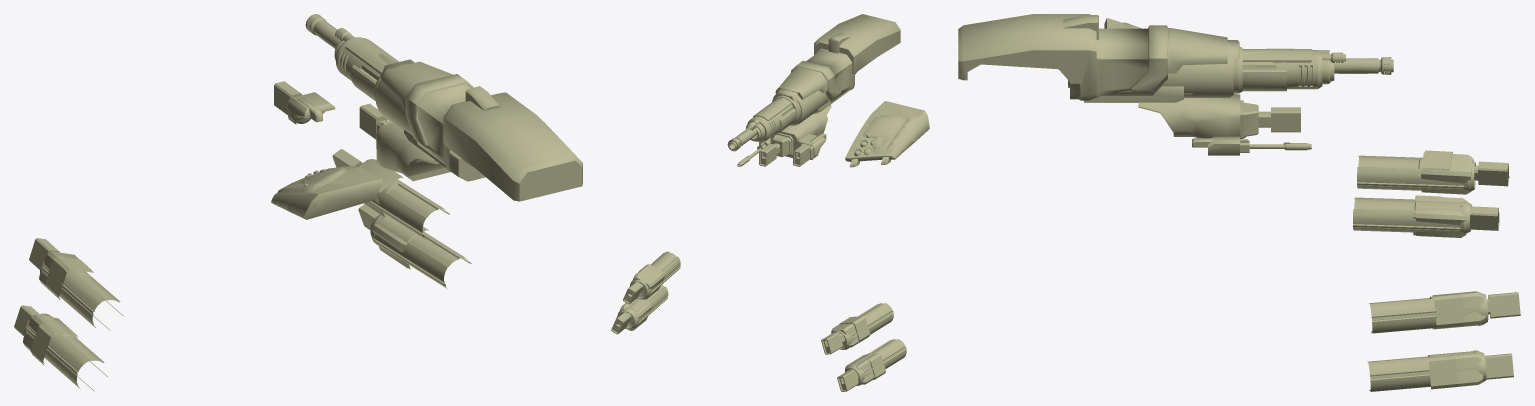
Rendered from MarauderWeapons.glb.
3 renders of one model, left to right at view 1: azimuth 30°, elevation 25°; view 2: azimuth 150°, elevation 25°; view 3: azimuth 270°, elevation 25°, orthographic. The views are drawn at different scales.
Visible parts, largest first — view 1: Torso_Right_BH1_AC2, Torso_Right_BH1_AC10, Torso_Right_BH1_AC20, Torso_Right_BH1_AC5, Forearm_Right_EH2_PPC, Torso_Left_MH1_Missile2, Forearm_Right_EH1_PPC, Torso_Right_EH1_Flamer, Forearm_Left_EH2_PPC, Forearm_Left_EH1_PPC, Torso_Right_EH1_Laser, Torso_Left_MH1_Missile15 (+8 smaller); view 2: Torso_Right_BH1_AC20, Torso_Right_BH1_AC2, Torso_Left_MH1_Missile2, Torso_Right_BH1_AC5, Torso_Right_BH1_AC10, Torso_Right_EH1_Flamer, Forearm_Left_EH2_PPC, Forearm_Left_EH1_PPC, Torso_Right_EH1_Laser, Forearm_Left_EH1_Flamer, Torso_Right_EH1_PPC, Forearm_Right_EH2_PPC (+11 smaller); view 3: Torso_Right_EH1_PPC, Torso_Right_BH1_AC2, Torso_Right_BH1_AC20, Torso_Right_EH1_Flamer, Forearm_Left_EH2_PPC, Torso_Right_EH1_Laser, Forearm_Left_EH1_PPC, Forearm_Right_EH1_PPC, Forearm_Right_EH2_PPC, Torso_Right_BH1_AC10, Forearm_Right_EH1_Flamer, Torso_Right_BH1_AC5 (+8 smaller).
Boxes of the visible parts, x1,y1,x2,y2 form: Torso_Right_BH1_AC2: (335, 28, 582, 201); Torso_Right_BH1_AC10: (334, 42, 569, 201); Torso_Right_BH1_AC20: (334, 37, 493, 180); Torso_Right_BH1_AC5: (305, 14, 581, 200); Forearm_Right_EH2_PPC: (370, 213, 471, 288); Torso_Left_MH1_Missile2: (271, 166, 383, 215); Forearm_Right_EH1_PPC: (356, 164, 449, 239); Torso_Right_EH1_Flamer: (359, 103, 448, 178); Forearm_Left_EH2_PPC: (24, 313, 108, 391); Forearm_Left_EH1_PPC: (40, 259, 123, 330); Torso_Right_EH1_Laser: (376, 123, 450, 181); Torso_Left_MH1_Missile15: (273, 169, 382, 219); Torso_Right_BH1_AC20: (747, 36, 857, 142); Torso_Right_BH1_AC2: (746, 14, 900, 130); Torso_Left_MH1_Missile2: (845, 101, 929, 167); Torso_Right_BH1_AC5: (727, 24, 900, 151); Torso_Right_BH1_AC10: (750, 34, 880, 140); Torso_Right_EH1_Flamer: (759, 106, 831, 166); Forearm_Left_EH2_PPC: (845, 339, 906, 385); Forearm_Left_EH1_PPC: (834, 303, 893, 349); Torso_Right_EH1_Laser: (770, 104, 831, 157); Forearm_Left_EH1_Flamer: (821, 316, 870, 354); Torso_Right_EH1_PPC: (775, 38, 853, 113); Forearm_Right_EH2_PPC: (617, 285, 668, 329); Torso_Right_EH1_PPC: (958, 15, 1286, 102); Torso_Right_BH1_AC2: (958, 14, 1345, 94); Torso_Right_BH1_AC20: (1064, 18, 1330, 97); Torso_Right_EH1_Flamer: (1138, 99, 1300, 138); Forearm_Left_EH2_PPC: (1353, 197, 1471, 233); Torso_Right_EH1_Laser: (1138, 94, 1245, 138); Forearm_Left_EH1_PPC: (1357, 155, 1475, 191); Forearm_Right_EH1_PPC: (1369, 292, 1488, 333); Forearm_Right_EH2_PPC: (1367, 350, 1486, 391); Torso_Right_BH1_AC10: (1063, 15, 1334, 81); Forearm_Right_EH1_Flamer: (1435, 292, 1520, 327); Torso_Right_BH1_AC5: (958, 25, 1393, 94).
Bounding box in the file's own units: 1.37 × 1.14 × 1.8.
